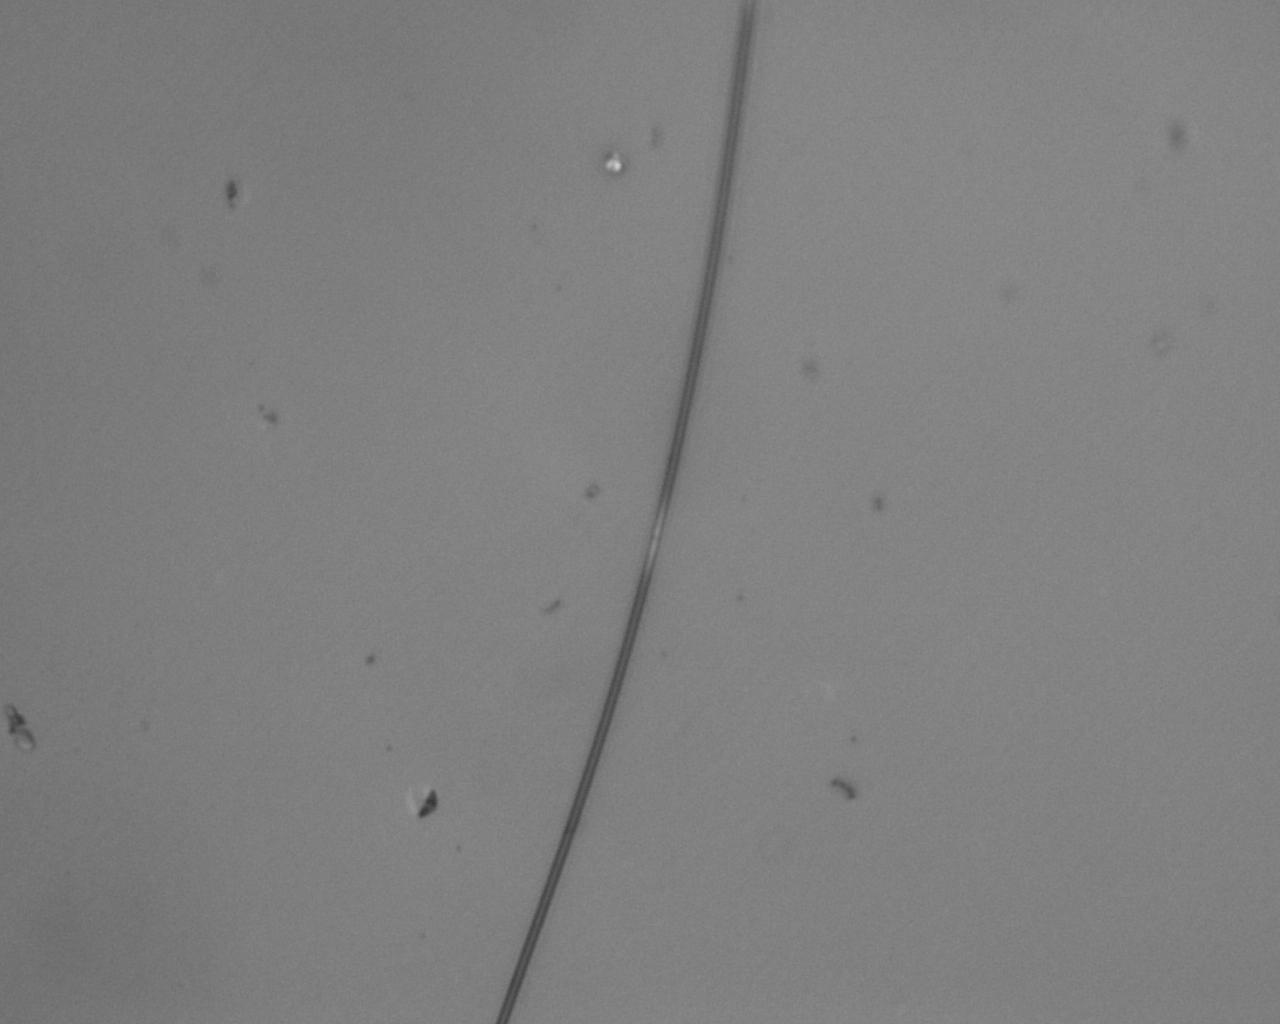fiber: (448, 0, 980, 657), (0, 0, 448, 665), (67, 925, 448, 1024), (625, 985, 1280, 1024)
